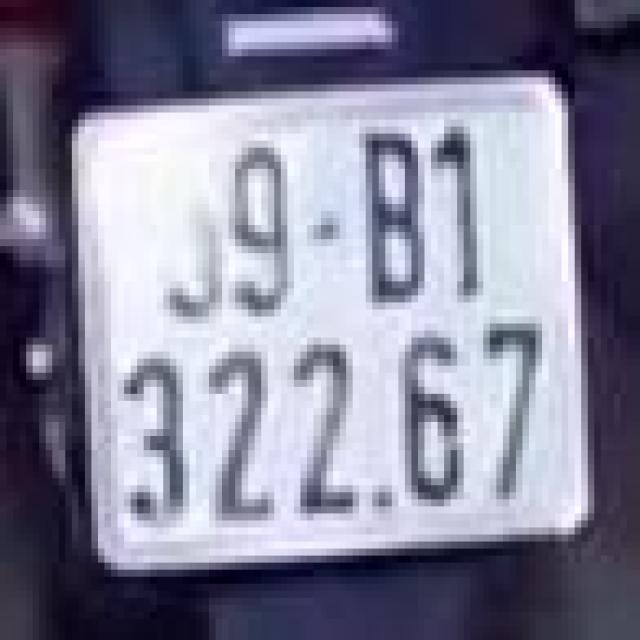1: (431, 123, 490, 313)
2: (205, 344, 278, 528), (290, 334, 362, 517)
3: (120, 341, 192, 531)
6: (392, 330, 464, 500)
7: (473, 320, 552, 503)
9: (228, 137, 300, 320)
B: (356, 126, 428, 310)
